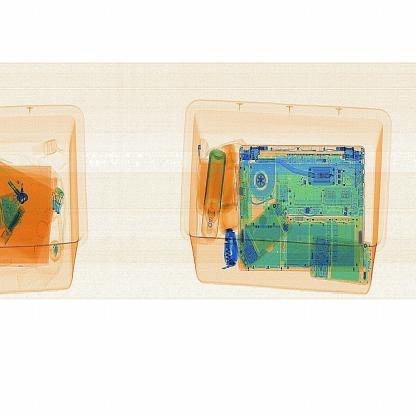scissors: (214, 224, 246, 279)
